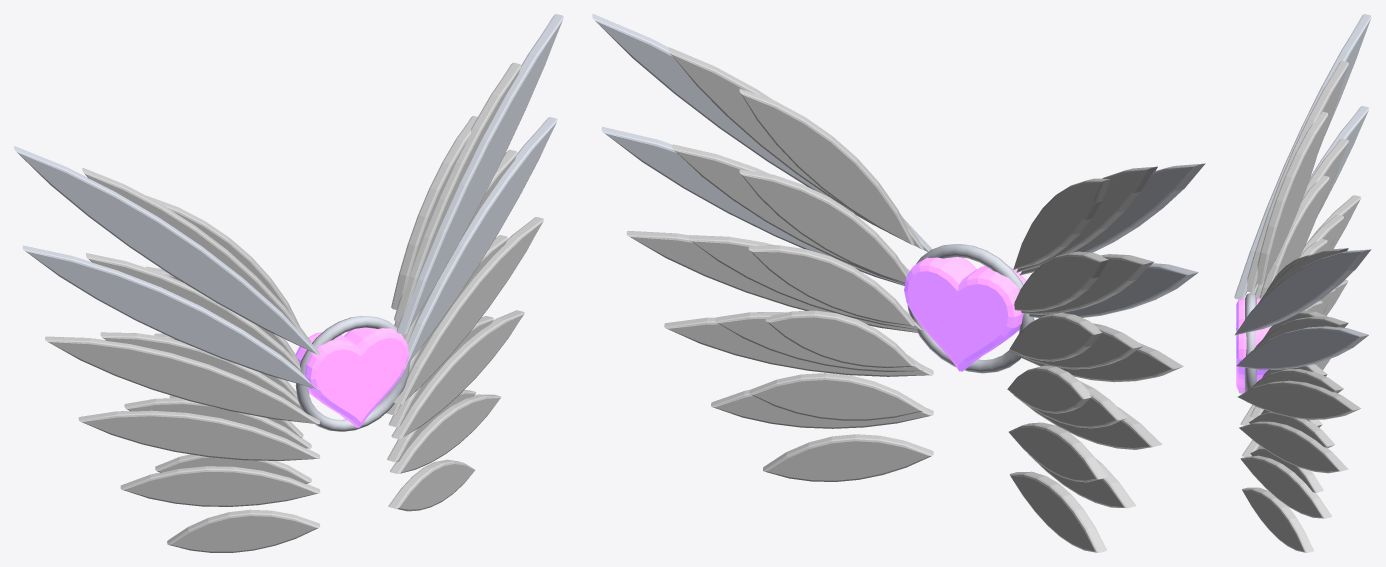
File: back_eqmo2.glb
3 views of the same model, side by side, from view 1: azimuth 30°, elevation 25°; view 2: azimuth 150°, elevation 25°; view 3: azimuth 270°, elevation 25° (orthographic). The views are drawn at different scales.
Bounding box in the file's own units: 3.88 × 2.76 × 0.9483.
